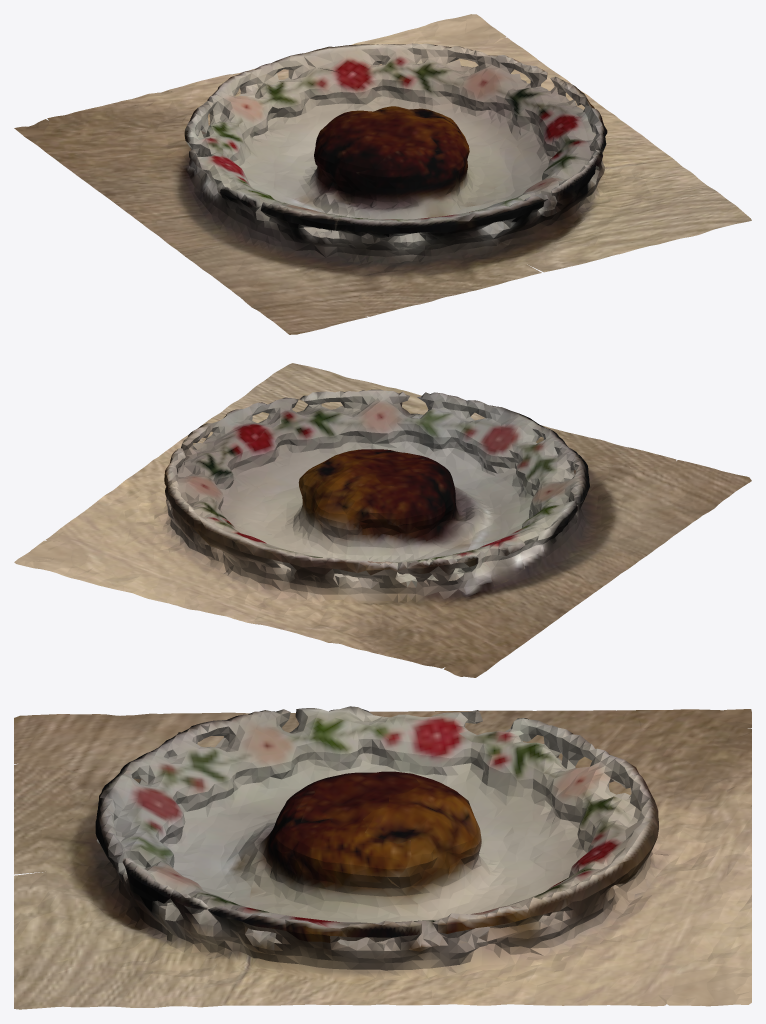
File: SugarPlumBoss_baked-goods_vegan-sugar-plum-cookie.glb
3 renders of one model, top to bottom at view 1: azimuth 30°, elevation 25°; view 2: azimuth 150°, elevation 25°; view 3: azimuth 270°, elevation 25°, orthographic. The views are drawn at different scales.
Bounding box in the file's own units: 0.2172 × 0.0264 × 0.2266.
Materials: 1 (1 with a texture image).
